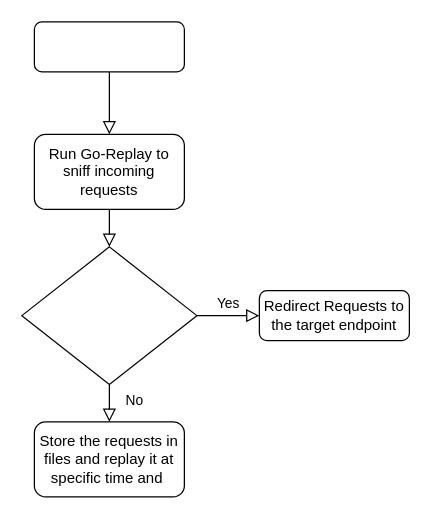
Some shapes in this 431 by 519 pixel diagram are drawn without their labels. Here are the shapes that lost their labels. From the top down, the centre of each, then its label:
At [108,46]: "Real Time requests".
At [109,315]: "Want to achieve the Same throughput?".
